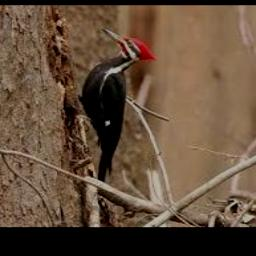Woodpecker: (80, 28, 157, 183)
